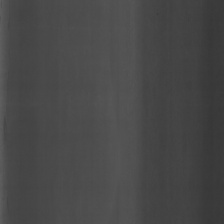inclusion: (155, 10, 158, 17)
